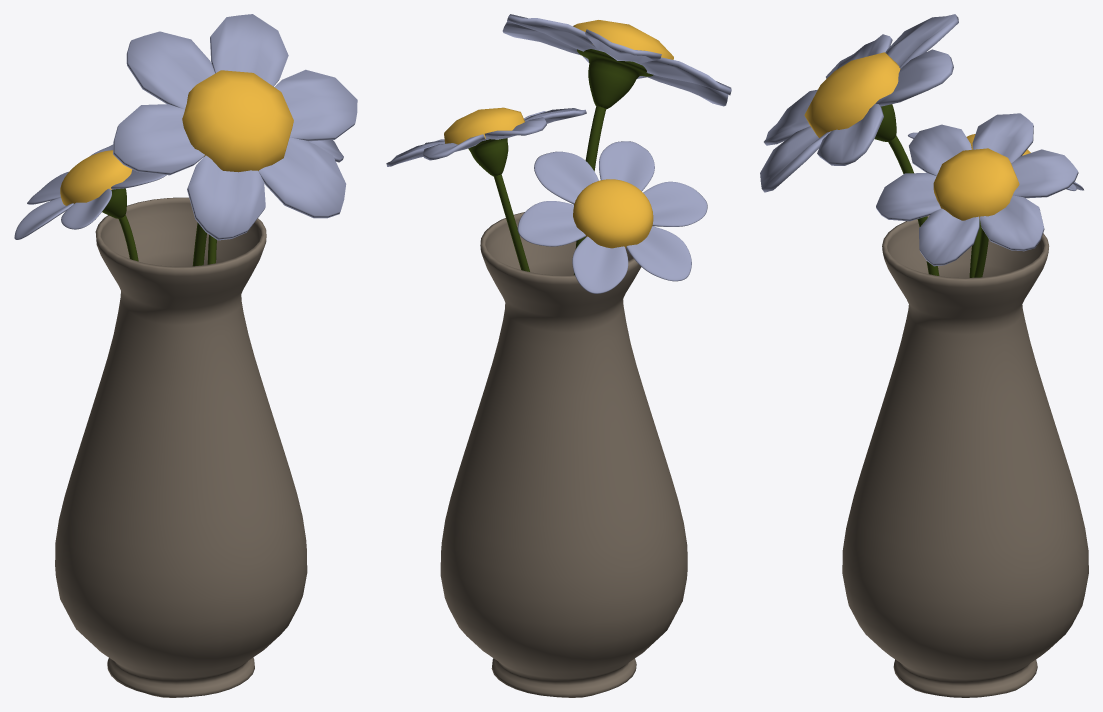
Rendered from Flower pot.fbx.
The picture shows the model from 3 angles, left to right: view 1: azimuth 30°, elevation 25°; view 2: azimuth 150°, elevation 25°; view 3: azimuth 270°, elevation 25°; orthographic projection. The views are drawn at different scales.
Parts seen in each view (by area): view 1: Flower vase, Petals, Center, Petals.004, Center.001, Bud.001; view 2: Flower vase, Petals.004, Petals, Center.001, Petals.011, Bud, Center.002, Center, Bud.002, Stem.002, Stem; view 3: Flower vase, Petals.011, Petals, Center.002, Center, Stem, Bud.
Part boxes in pixels (x1,y1,x2,y2): Flower vase: [55, 197, 307, 697]; Petals: [113, 14, 357, 240]; Center: [182, 70, 293, 172]; Petals.004: [14, 144, 166, 239]; Center.001: [60, 150, 132, 205]; Bud.001: [102, 188, 126, 218]; Flower vase: [440, 212, 687, 697]; Petals.004: [517, 141, 707, 293]; Petals: [502, 14, 731, 106]; Center.001: [573, 179, 653, 248]; Petals.011: [386, 108, 586, 166]; Bud: [577, 49, 653, 109]; Center.002: [444, 107, 524, 144]; Center: [573, 20, 673, 59]; Bud.002: [468, 138, 508, 176]; Stem.002: [494, 174, 529, 271]; Stem: [574, 106, 605, 274]; Flower vase: [842, 215, 1088, 697]; Petals.011: [876, 113, 1078, 266]; Petals: [760, 14, 958, 192]; Center.002: [933, 148, 1019, 220]; Center: [804, 52, 900, 137]; Stem: [888, 135, 939, 275]; Bud: [874, 104, 896, 141].
Size of the model in its own units: 53.38 by 113 by 53.07.
